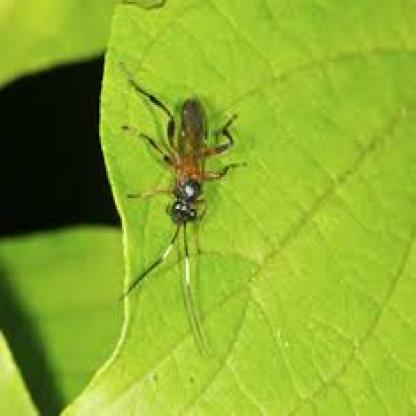sawfly: (111, 60, 251, 362)
